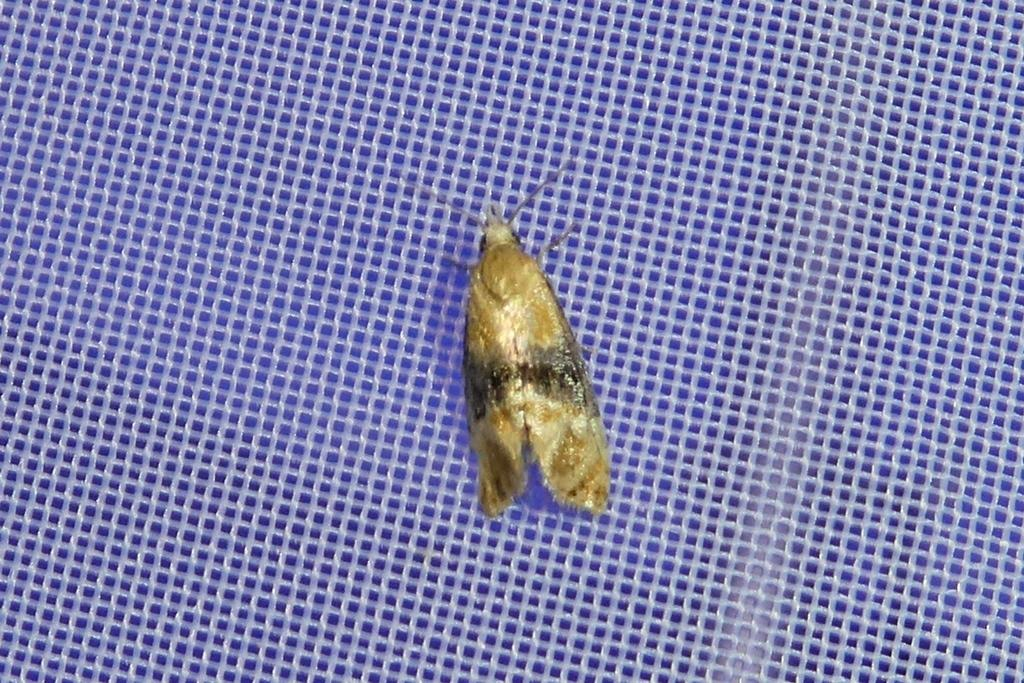Eupoecilia Ambiguella: (448, 146, 615, 521)
